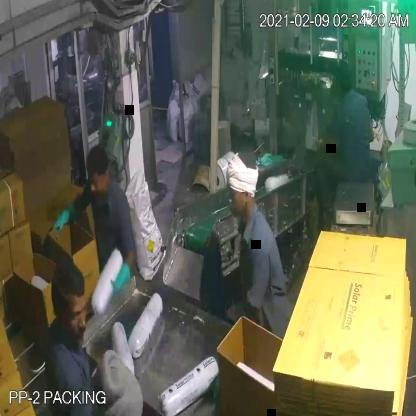glove: (33, 190, 88, 246), (92, 259, 144, 305)
